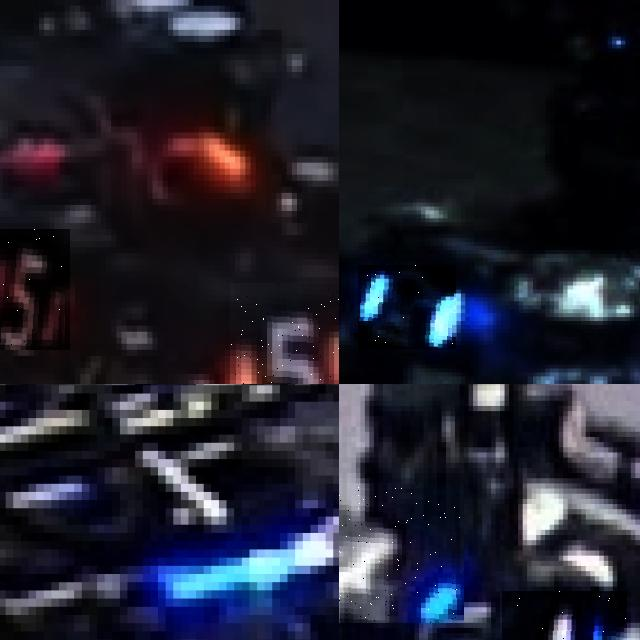B4: (339, 483, 464, 622), (502, 591, 628, 640)
Bs: (358, 265, 456, 349)
R5: (230, 283, 339, 384), (0, 229, 70, 350)
